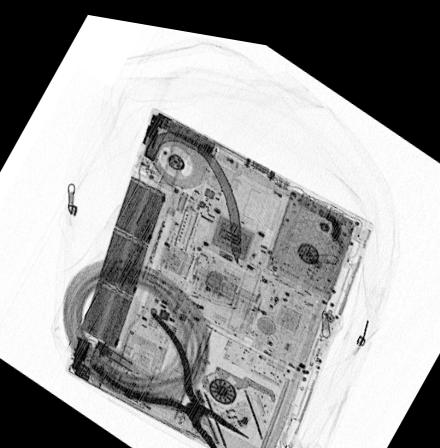Pliers: (89, 302, 251, 448)
